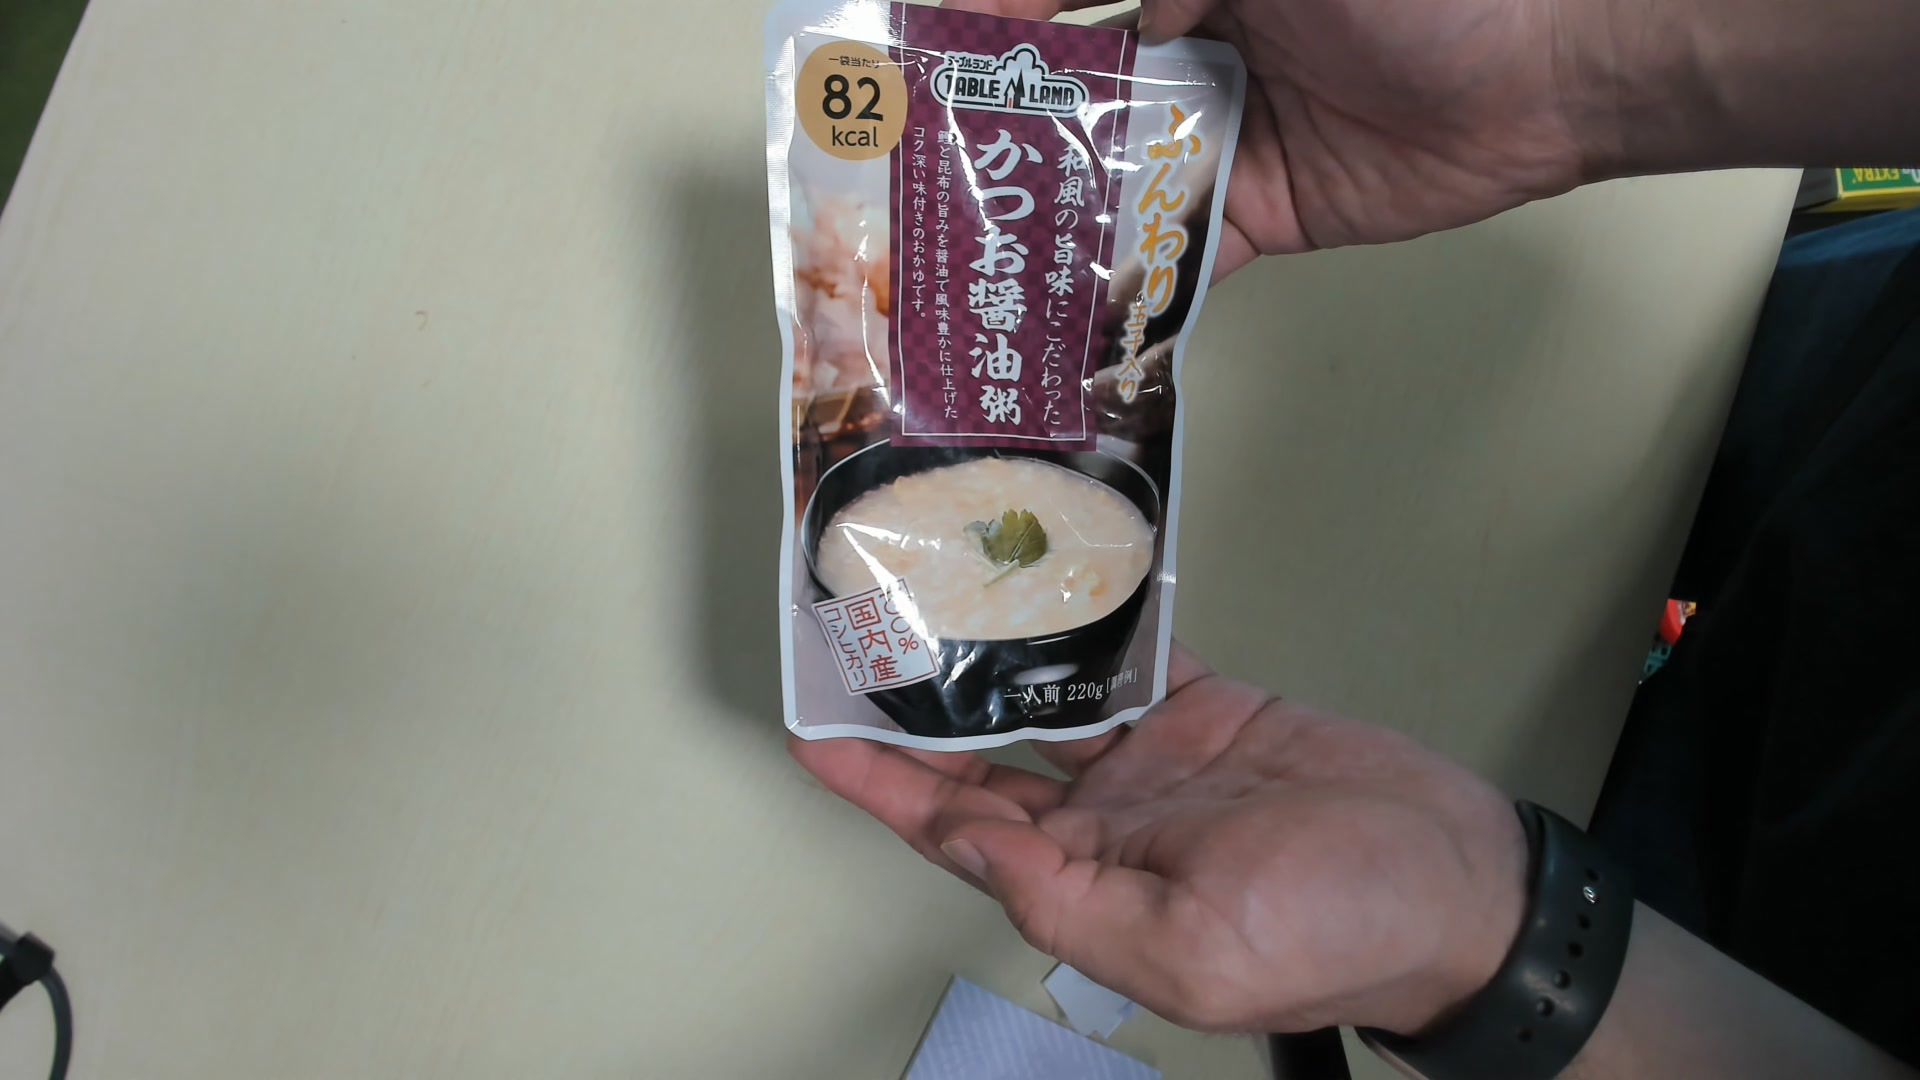InstantMeals_200_299g_NonHalal_NonHealthy: (754, 1, 1250, 733)
